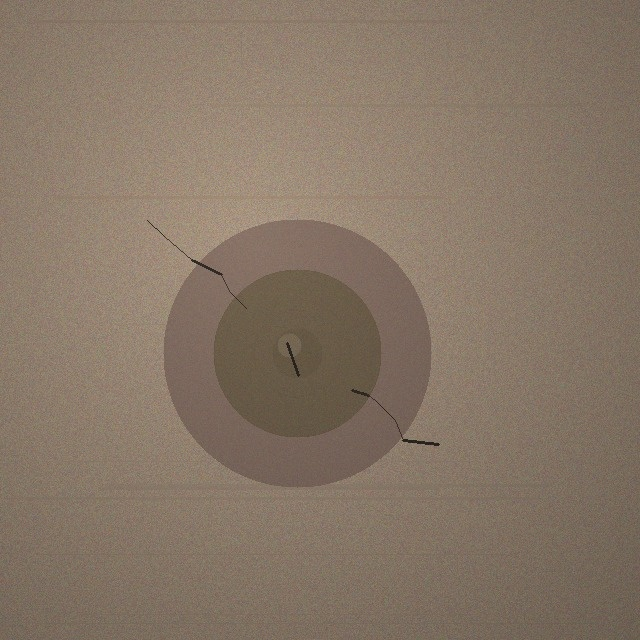crack: (163, 219, 431, 487)
